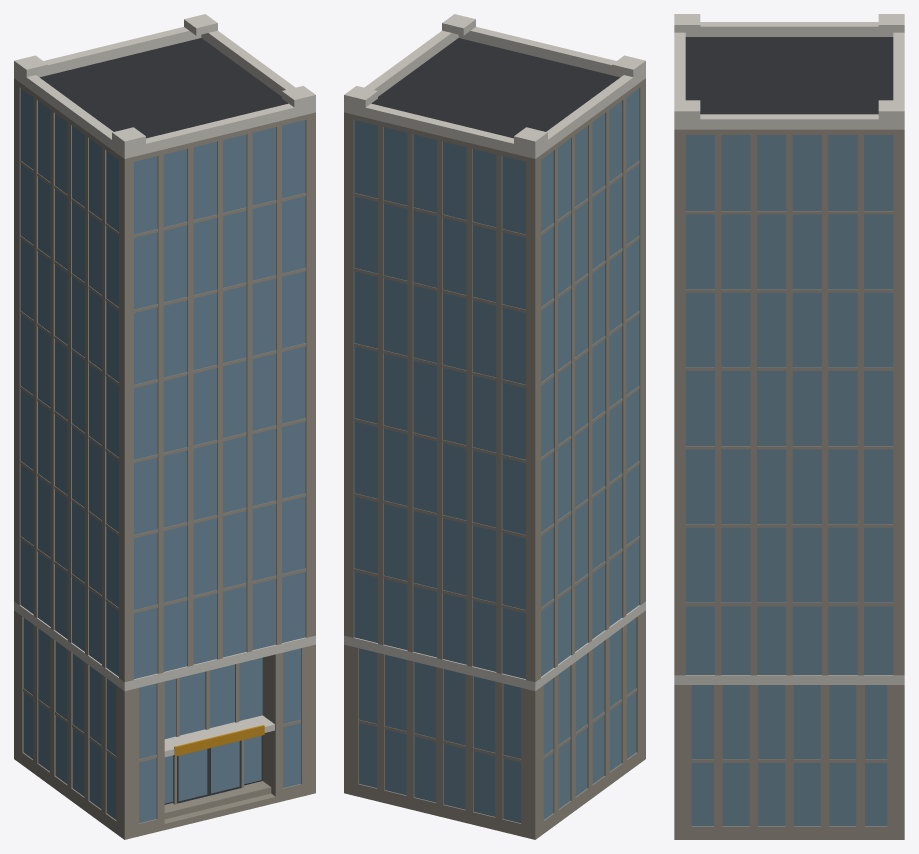
The model's file is office-tower-8d148a.glb.
3 renders of one model, left to right at view 1: azimuth 30°, elevation 25°; view 2: azimuth 150°, elevation 25°; view 3: azimuth 270°, elevation 25°, orthographic. The views are drawn at different scales.
Visible parts, largest first — view 1: glazing, tower-shell, door-right, door-left; view 2: glazing, tower-shell; view 3: glazing, tower-shell.
Boxes of the visible parts, x1=… form: glazing: x1=20, y1=88, x2=305, y2=822; tower-shell: x1=14, y1=14, x2=315, y2=839; door-right: x1=209, y1=740, x2=241, y2=795; door-left: x1=177, y1=748, x2=208, y2=803; glazing: x1=354, y1=88, x2=639, y2=822; tower-shell: x1=344, y1=14, x2=645, y2=839; glazing: x1=685, y1=135, x2=893, y2=826; tower-shell: x1=674, y1=14, x2=904, y2=839.
Size of the model in its own units: 8 by 27.9 by 8.
